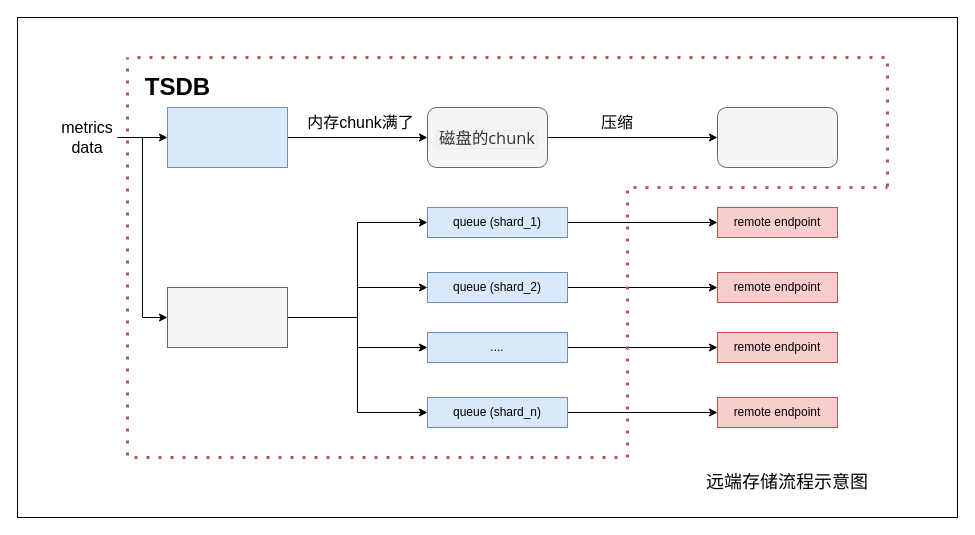
Some shapes in this 975 by 535 pixel diagram are drawn without their labels. Here are the shapes that lost their labels. From the top down, the box of each, then its label:
(166, 106, 288, 168): 内存的chunk
(716, 106, 838, 168): block
(166, 286, 288, 348): 磁盘WAL
